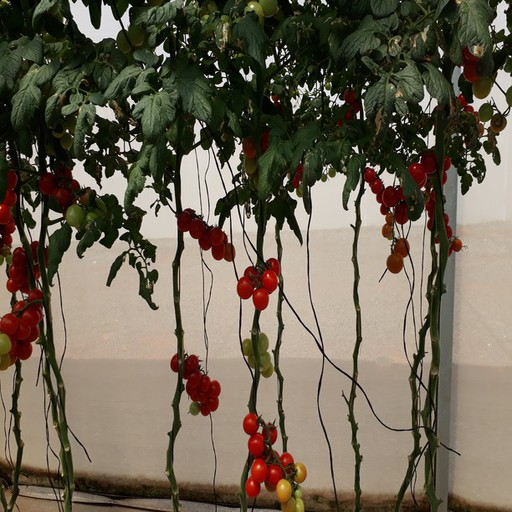green tomato bunch: (241, 331, 274, 380)
mixed tomato bunch: (454, 40, 499, 95)
red tomato bunch: (409, 146, 465, 256), (359, 170, 411, 271), (244, 413, 293, 499), (1, 291, 43, 369), (243, 128, 302, 182), (178, 208, 236, 261), (172, 353, 220, 415), (238, 258, 283, 313), (7, 242, 52, 292), (450, 93, 487, 139), (1, 170, 21, 248), (39, 168, 80, 204), (335, 85, 358, 130)
